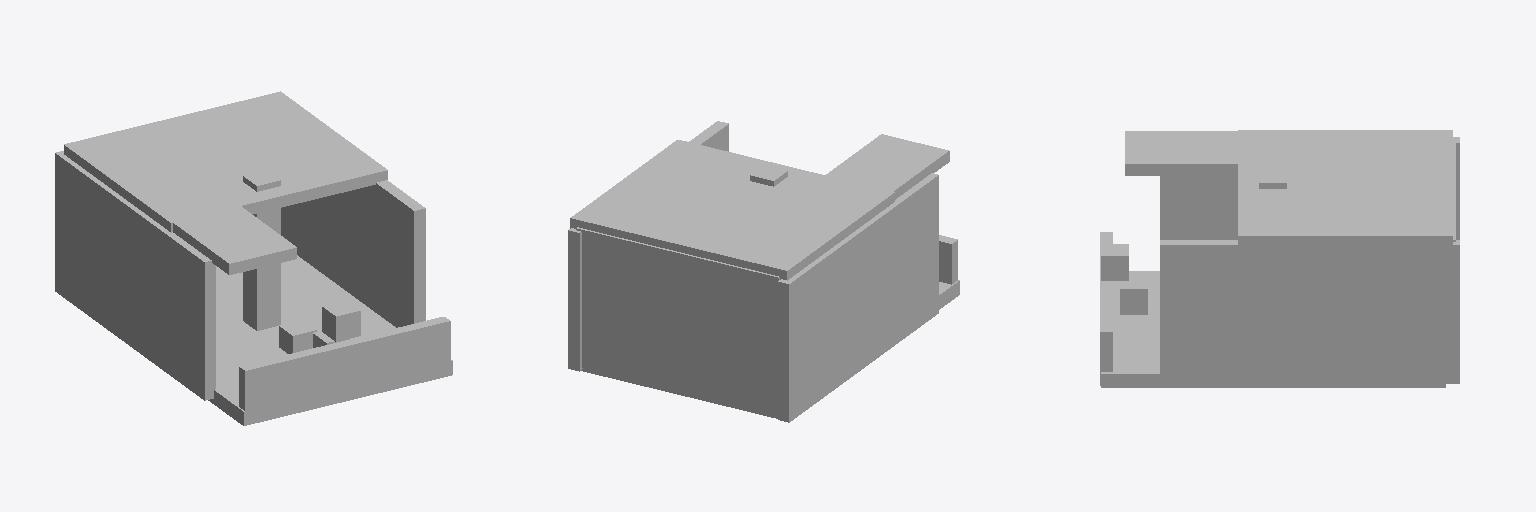
File: cell1.1.hb.obj
3 views of the same model, side by side, from view 1: azimuth 30°, elevation 25°; view 2: azimuth 150°, elevation 25°; view 3: azimuth 270°, elevation 25° (orthographic).
Parts seen in each view (by area): view 1: Cube.013, Cube.010_Cube, Cube.011, Cube.009_Cube.010, Cube.001, Cube.014, Cube.005_Cube.006, Cube.006_Cube.007, Cube.008_Cube.009; view 2: Cube.012, Cube.013, Cube.010_Cube, Cube.014, Cube.011, Cube.001, Cube.009_Cube.010, Cube.005_Cube.006; view 3: Cube.011, Cube.013, Cube.001, Cube.010_Cube, Cube.014, Cube.009_Cube.010, Cube.006_Cube.007, Cube.007_Cube.008.
Part boxes in pixels (x1,y1,x2,y2): Cube.013: (64,91,387,232); Cube.010_Cube: (55,151,215,400); Cube.011: (281,180,425,327); Cube.009_Cube.010: (239,317,450,424); Cube.001: (208,255,452,425); Cube.014: (173,206,296,274); Cube.005_Cube.006: (243,170,280,330); Cube.006_Cube.007: (322,300,360,341); Cube.008_Cube.009: (279,320,316,353); Cube.012: (576,227,779,415); Cube.013: (570,140,894,280); Cube.010_Cube: (778,173,938,422); Cube.014: (826,134,949,199); Cube.011: (568,121,728,371); Cube.001: (581,280,959,418); Cube.009_Cube.010: (939,235,957,284); Cube.005_Cube.006: (750,165,787,186); Cube.011: (1160,240,1459,383); Cube.013: (1238,130,1452,247); Cube.001: (1101,271,1445,387); Cube.010_Cube: (1160,137,1459,239); Cube.014: (1125,131,1238,175); Cube.009_Cube.010: (1100,232,1112,385); Cube.006_Cube.007: (1101,244,1128,280); Cube.007_Cube.008: (1120,277,1147,314).
Bounding box in the file's own units: 18.25 × 12.52 × 25.55.